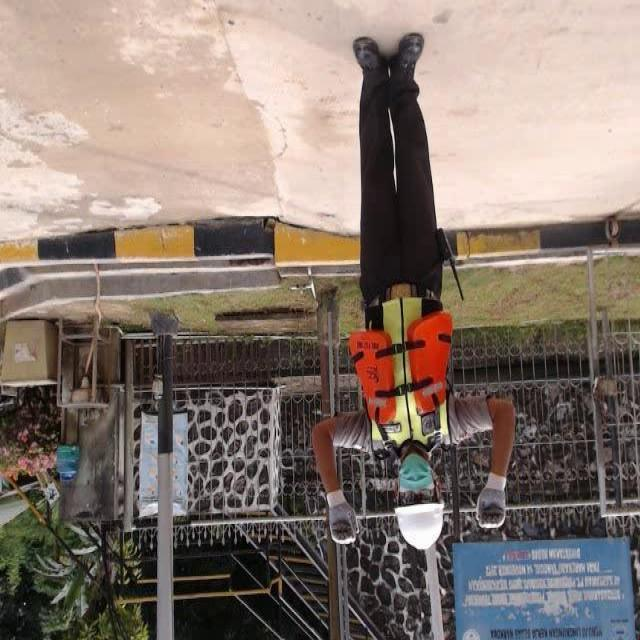helmet: (387, 501, 455, 549)
jacket: (349, 297, 462, 448)
